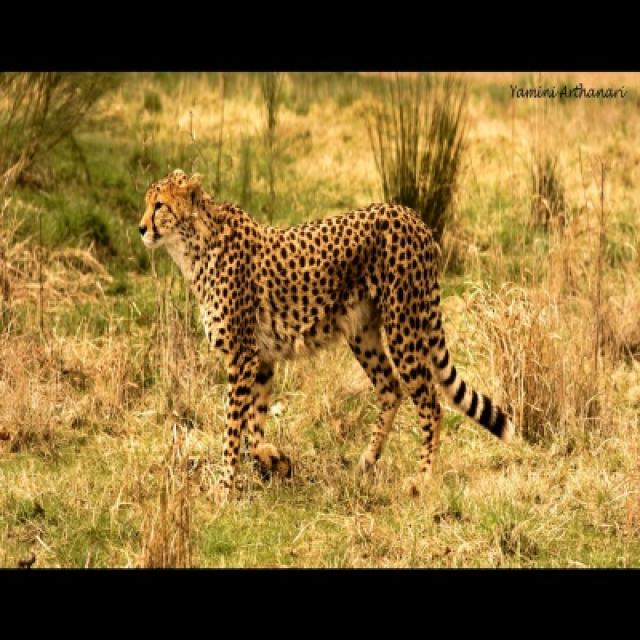Cheetah: (139, 170, 510, 486)
